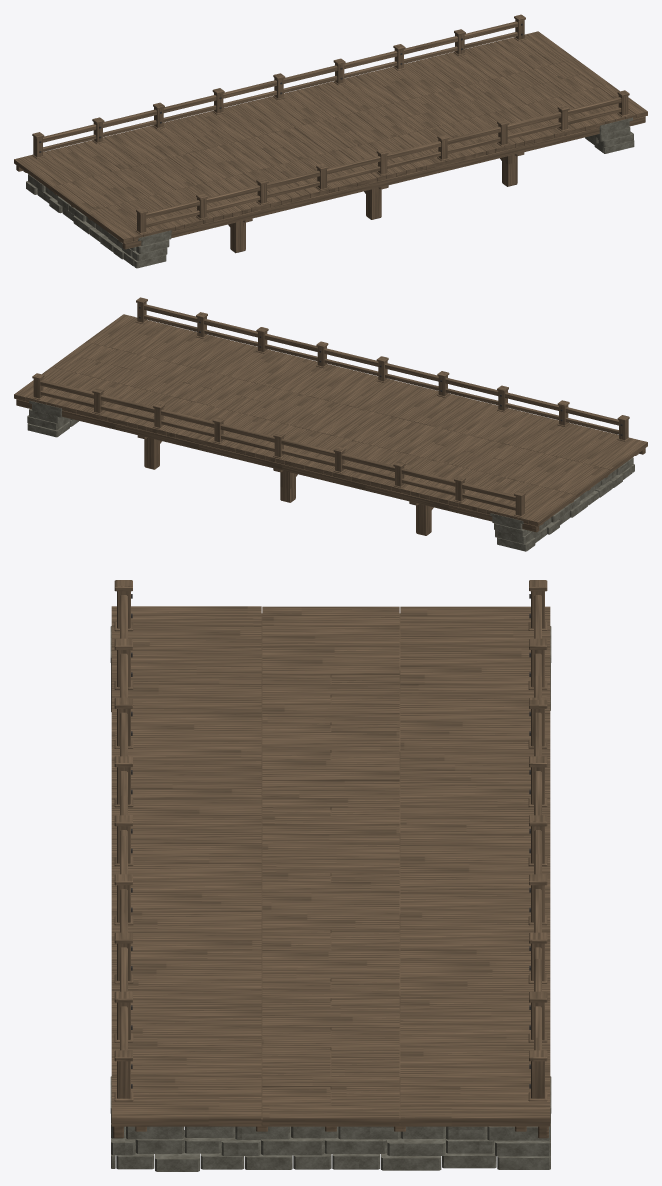
The model's file is marches_north_timber_bridge.glb.
3 views of the same model, one above another, from view 1: azimuth 30°, elevation 25°; view 2: azimuth 150°, elevation 25°; view 3: azimuth 270°, elevation 25° (orthographic). The views are drawn at different scales.
Visible parts, largest first — view 1: Larch, Abutment; view 2: Larch, Abutment; view 3: Larch, Abutment.
Boxes of the visible parts, bbox=[...] form: Larch: bbox=[14, 14, 647, 253]; Abutment: bbox=[26, 117, 634, 268]; Larch: bbox=[14, 297, 647, 535]; Abutment: bbox=[27, 400, 634, 551]; Larch: bbox=[111, 580, 550, 1138]; Abutment: bbox=[110, 626, 551, 1171].
Size of what is drawn, in the model's own units: 28.95 by 3.79 by 10.53.
Materials: 3 (2 with a texture image).
